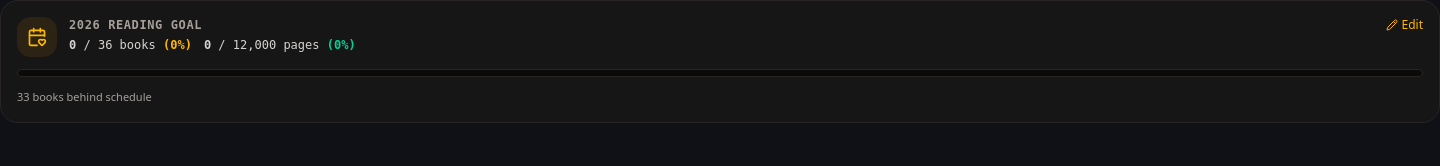
goal entry › allows clearing the yearly book target, rejects zero and saves 20
Click the button "Edit".
click(1404, 25)  # box [1386,17,1423,33]
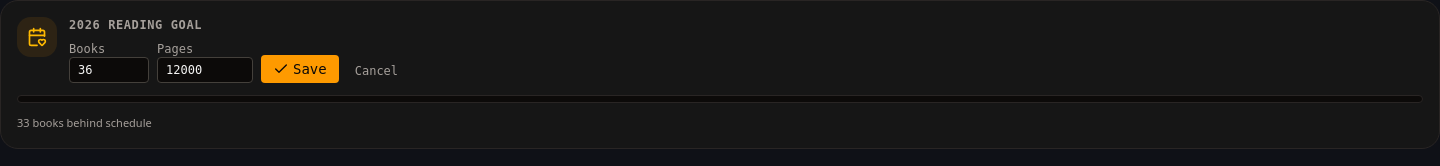
Clear the number field labelled "Books" at [109, 70], box [69,57,149,83]
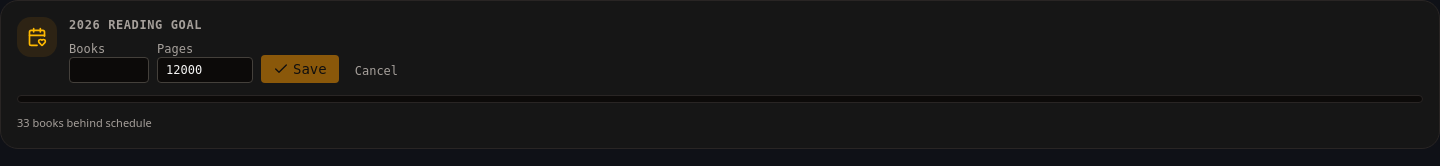
Expected: the button "Save" is disabled, [261,55,339,83]
Type "0" into the number field labelled "Books".
click(109, 70); type("0")  # box [69,57,149,83]
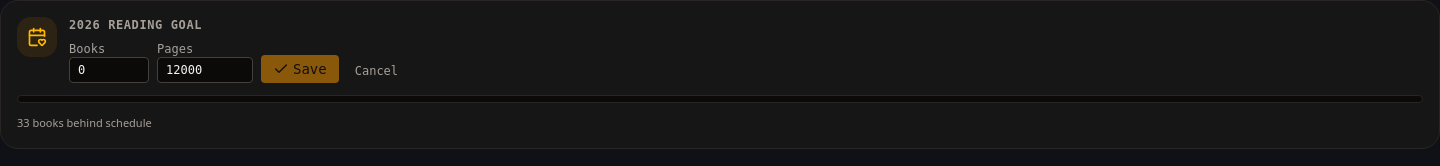
Expected: the button "Save" is disabled, [261,55,339,83]
Replace the text in the number field labelled "Books" with "20" at [109, 70], box [69,57,149,83]
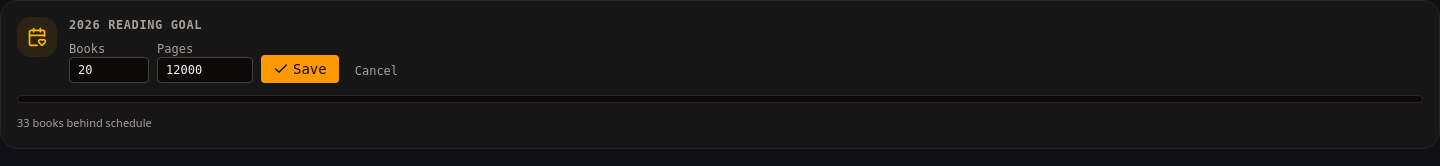
Click the button "Save".
click(300, 69)  # box [261,55,339,83]
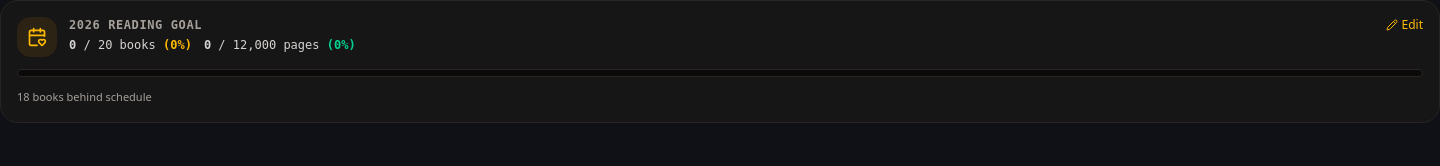
Click the button "Edit".
click(1404, 25)  # box [1386,17,1423,33]
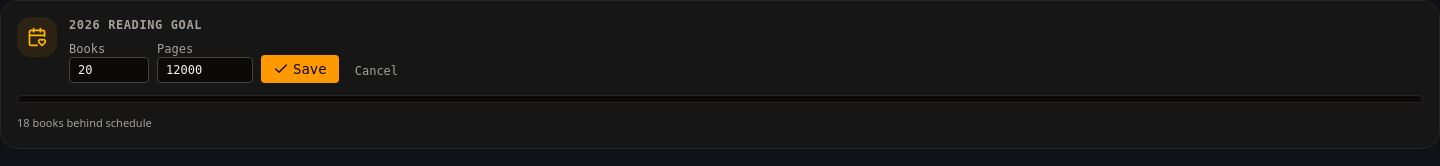
Expected: the number field labelled "Books" holds "20", [69,57,149,83]
